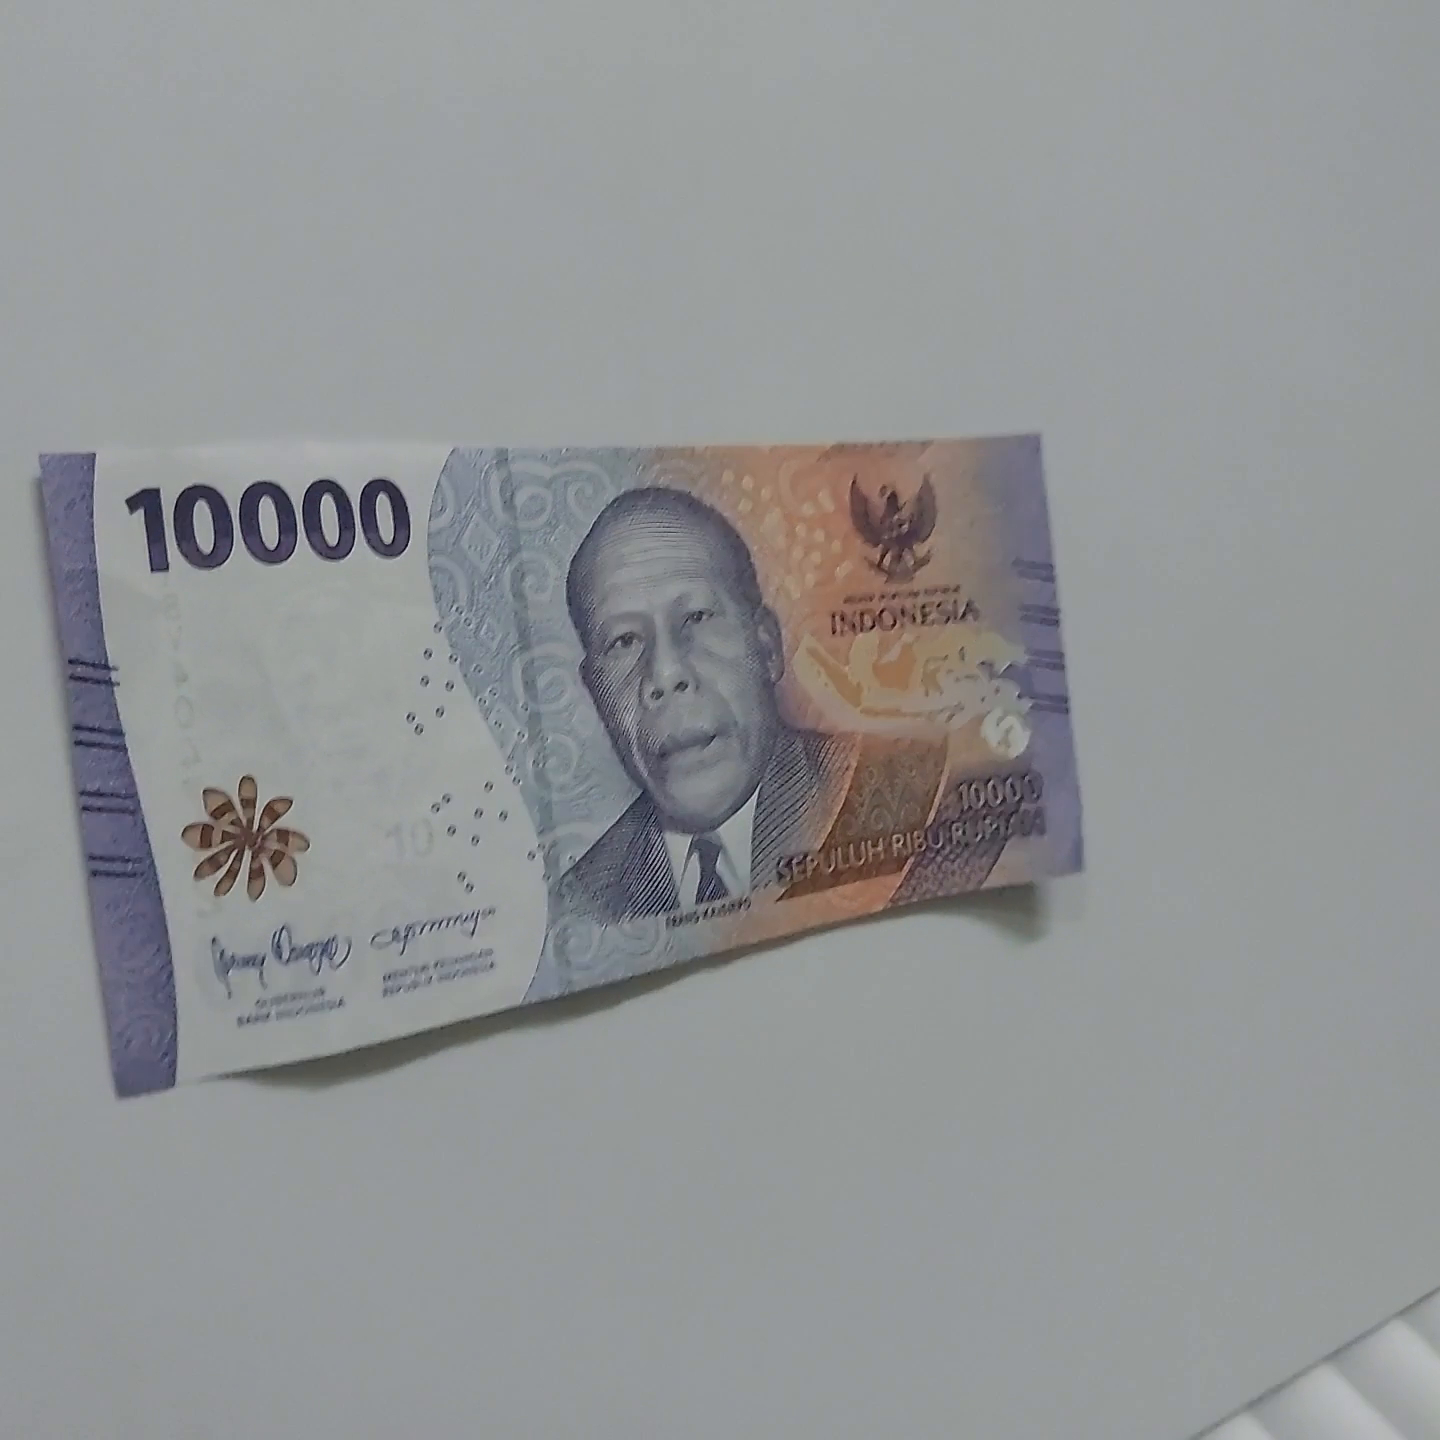10k: (32, 438, 1093, 1091)
